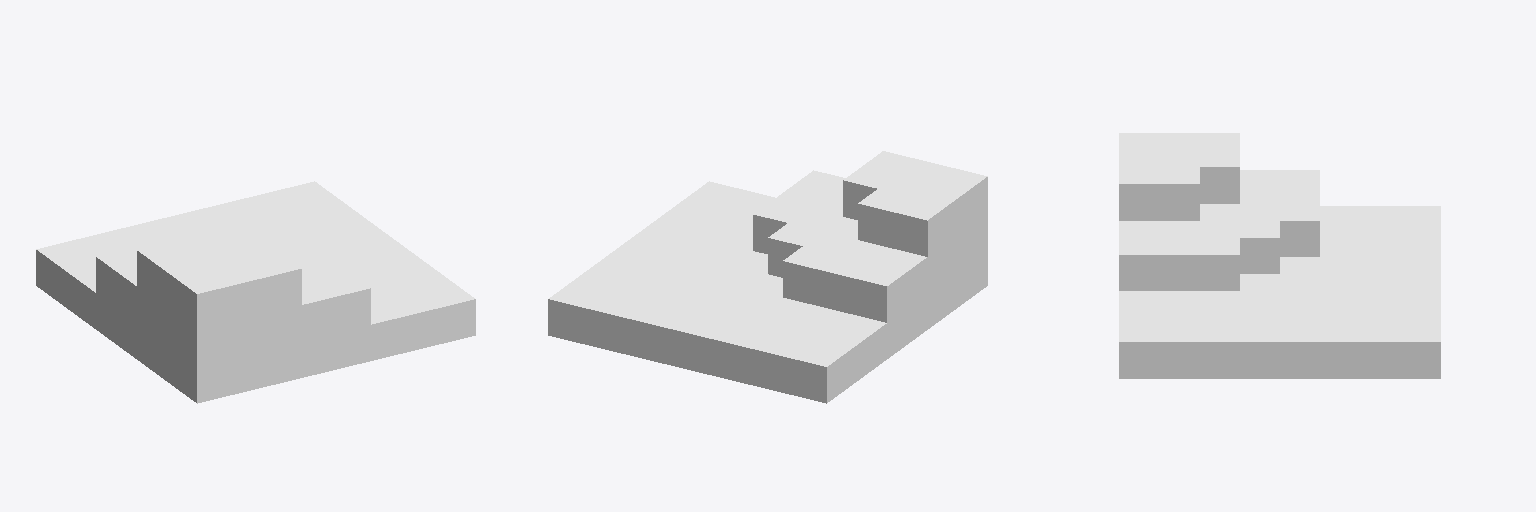
Rendered from beach_corner_270.obj.
The picture shows the model from 3 angles: view 1: azimuth 30°, elevation 25°; view 2: azimuth 150°, elevation 25°; view 3: azimuth 270°, elevation 25°; orthographic projection.
Visible parts, largest first — view 1: object 1; view 2: object 1; view 3: object 1.
Part boxes in pixels (left/top/right/bottom): object 1: left=36, top=181, right=475, bottom=403; object 1: left=548, top=151, right=987, bottom=403; object 1: left=1119, top=133, right=1440, bottom=378.
Size of the model in its own units: 0.8 by 0.3 by 0.8.